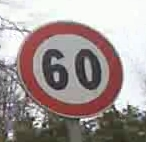limite 60: (15, 19, 122, 121)
